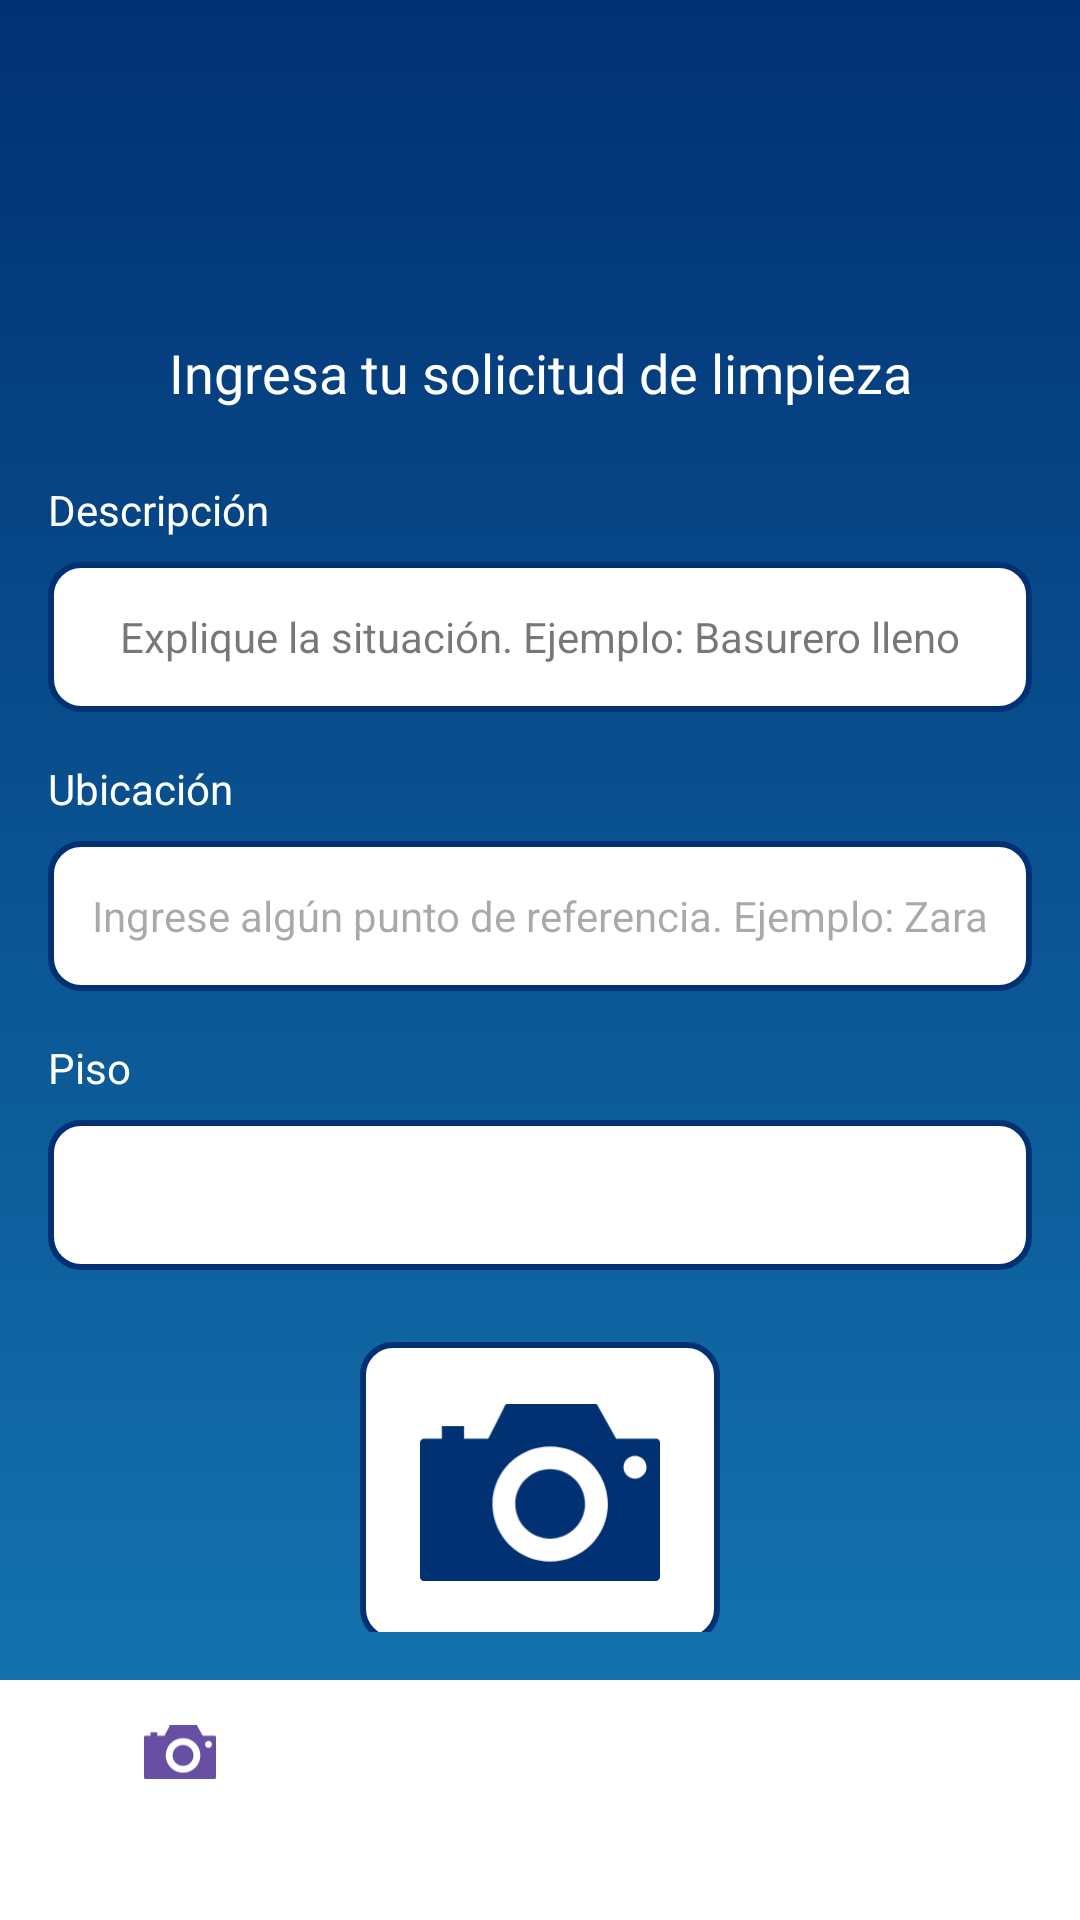

Named icons in this screenshot (1080*1920) and their centers, (x,y):
camera: (540,1487)
